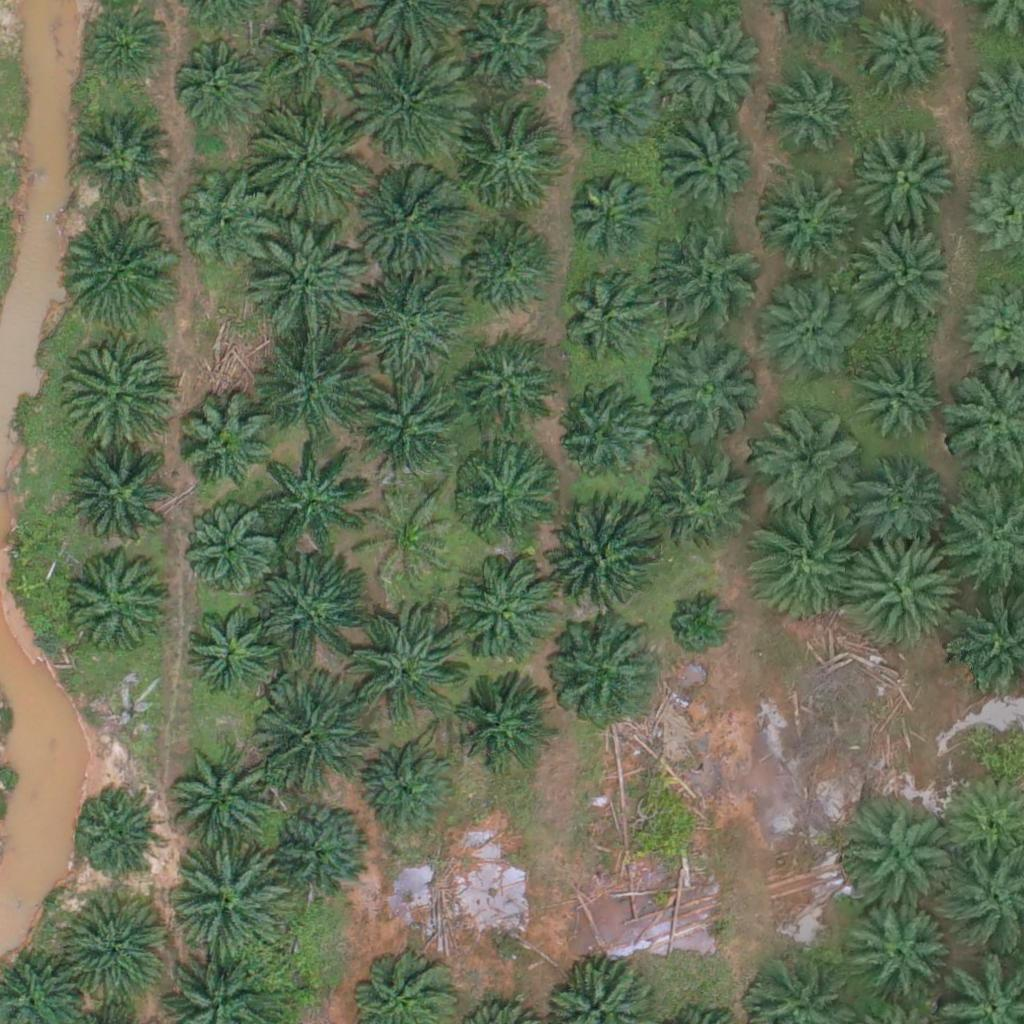Kelapa_Sawit: (257, 679, 370, 793), (58, 892, 171, 1006), (64, 210, 177, 324), (843, 534, 956, 647), (748, 275, 861, 388), (748, 394, 861, 507), (740, 508, 853, 621), (843, 803, 956, 916), (645, 335, 758, 448), (544, 504, 657, 617), (258, 553, 371, 666), (248, 227, 361, 340), (60, 334, 173, 447), (357, 48, 470, 161), (256, 108, 369, 221), (749, 168, 861, 282), (452, 554, 564, 668), (353, 265, 465, 379), (354, 378, 466, 492), (67, 443, 179, 557), (658, 9, 770, 123), (361, 162, 473, 276), (852, 221, 964, 334), (652, 218, 764, 331), (546, 620, 658, 733), (350, 609, 462, 722), (255, 440, 367, 553), (259, 325, 371, 438), (171, 733, 283, 846), (175, 847, 287, 960), (847, 122, 959, 235), (455, 113, 567, 226), (850, 453, 950, 554), (854, 340, 954, 441), (851, 907, 951, 1008), (654, 454, 754, 555), (551, 386, 651, 487), (360, 482, 460, 583), (267, 800, 367, 901), (177, 500, 277, 601), (181, 596, 281, 697), (70, 552, 170, 653), (764, 69, 864, 170), (564, 61, 664, 162), (456, 1, 556, 102), (72, 107, 172, 208), (453, 673, 553, 773), (457, 344, 557, 444), (450, 445, 550, 545), (356, 746, 456, 846), (174, 393, 274, 493), (660, 116, 760, 216), (177, 170, 277, 270), (173, 29, 273, 129), (562, 273, 650, 361), (459, 227, 547, 315), (565, 170, 653, 258), (71, 786, 158, 874), (664, 583, 739, 658)
